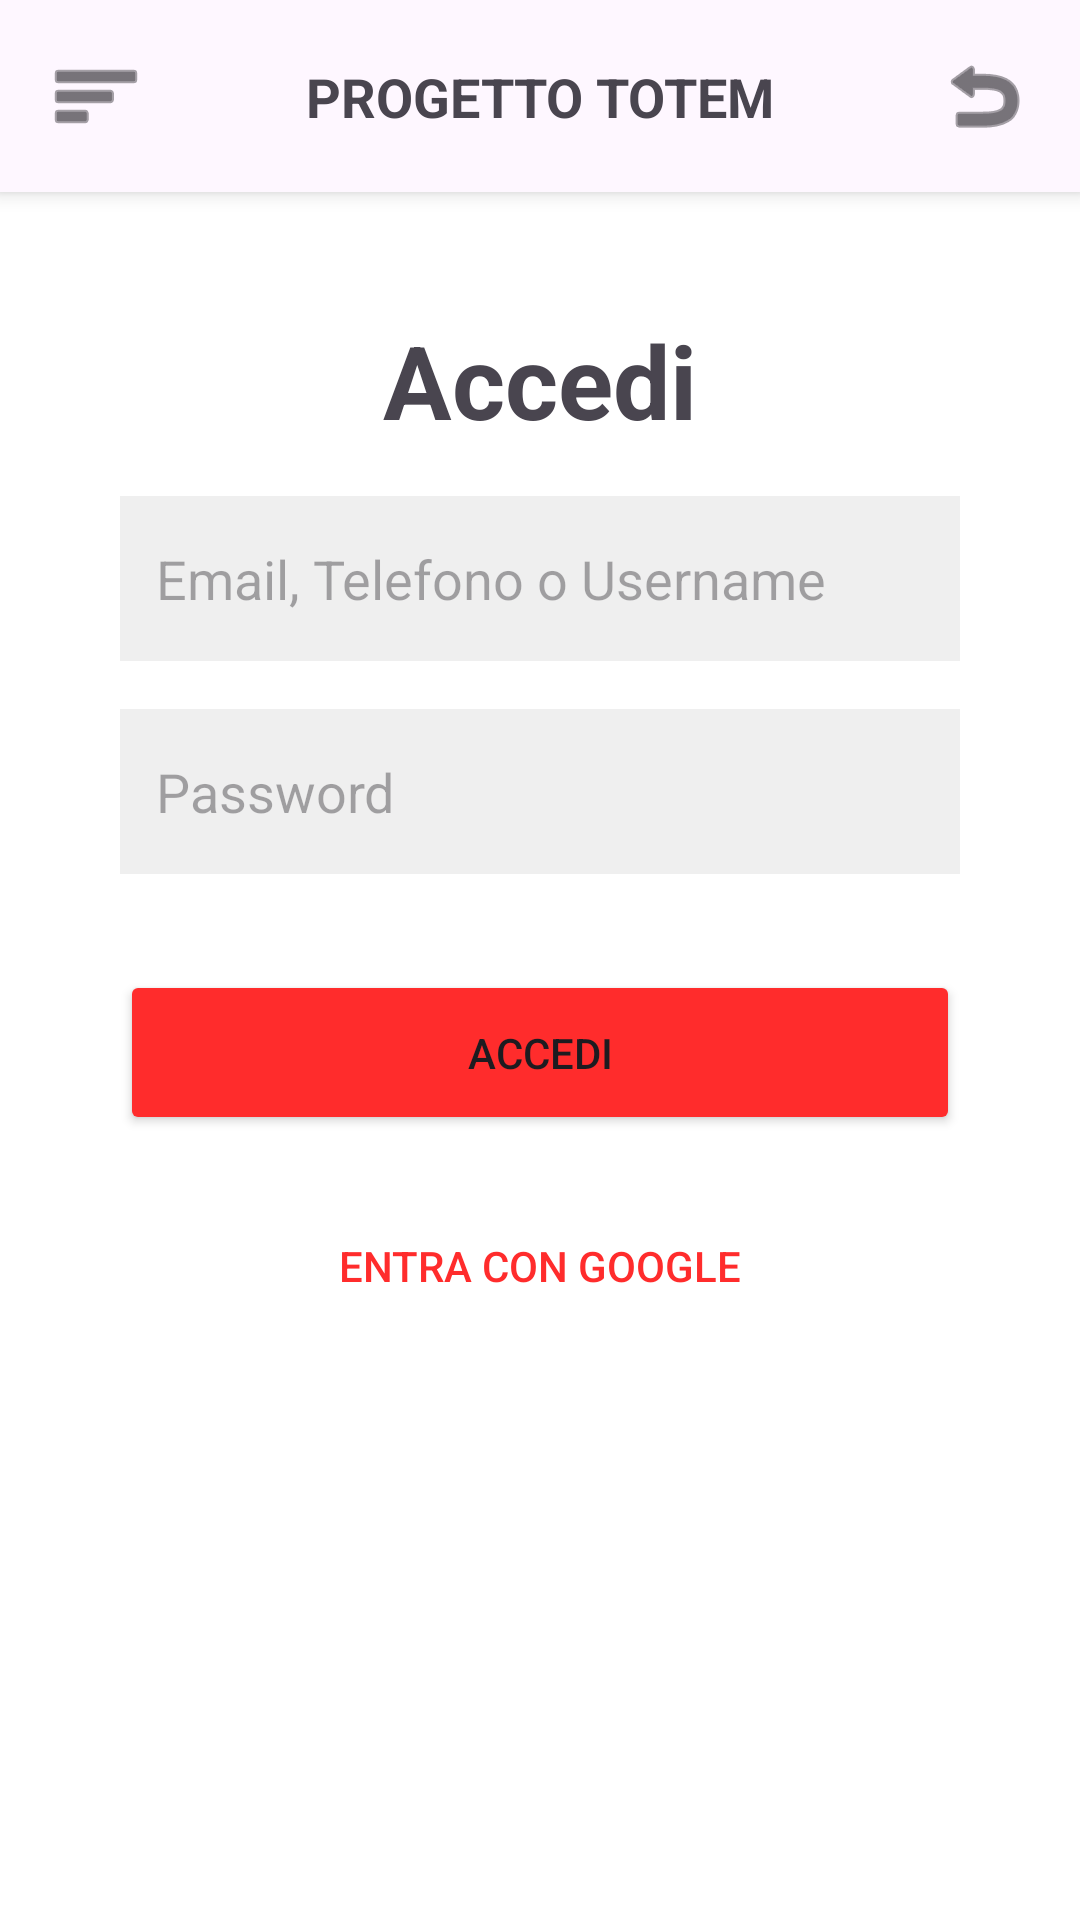

Named icons in this screenshot (1080px×1920px) and their centers, [x,y]:
Indietro: [985,96]
Menu: [96,96]
